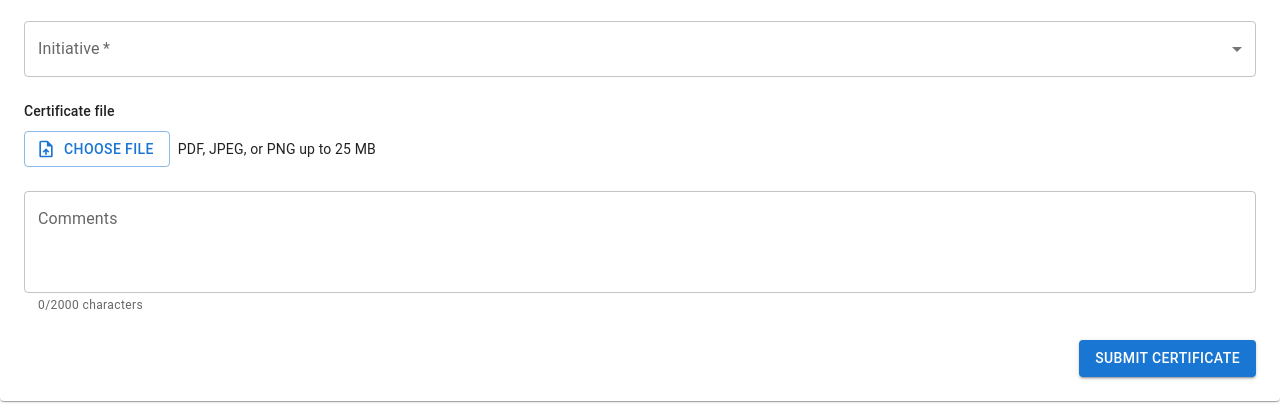
Test case: SubmitCertificateForm › lists available initiatives before already-submitted initiatives
Step 1. Click the dropdown named "Initiative" → point(640, 49), box x1=24 y1=21 x2=1256 y2=77
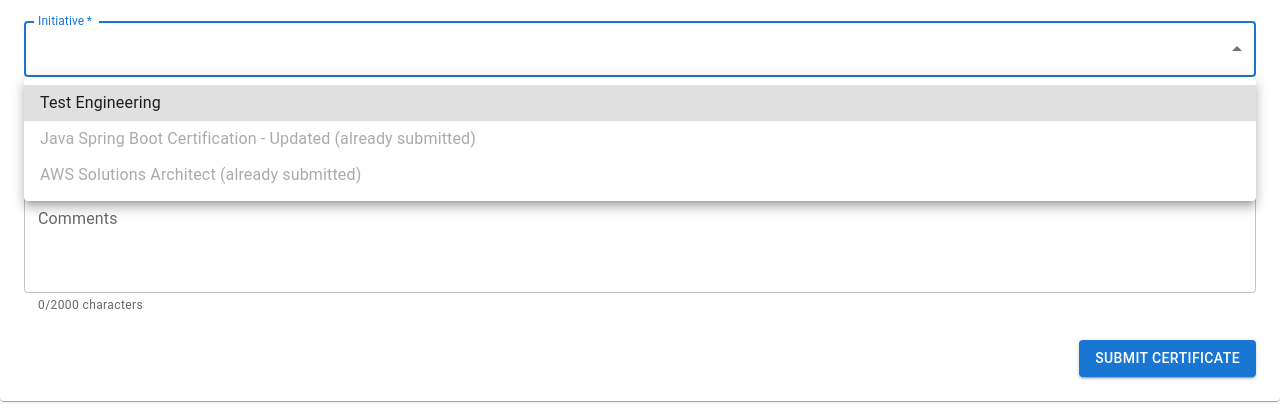
Result: the options read "Test Engineering", "Java Spring Boot Certification - Updated (already submitted)", "AWS Solutions Architect (already submitted)", in this order at x1=24 y1=85 x2=1256 y2=121; x1=40 y1=129 x2=476 y2=148; x1=40 y1=165 x2=361 y2=184
